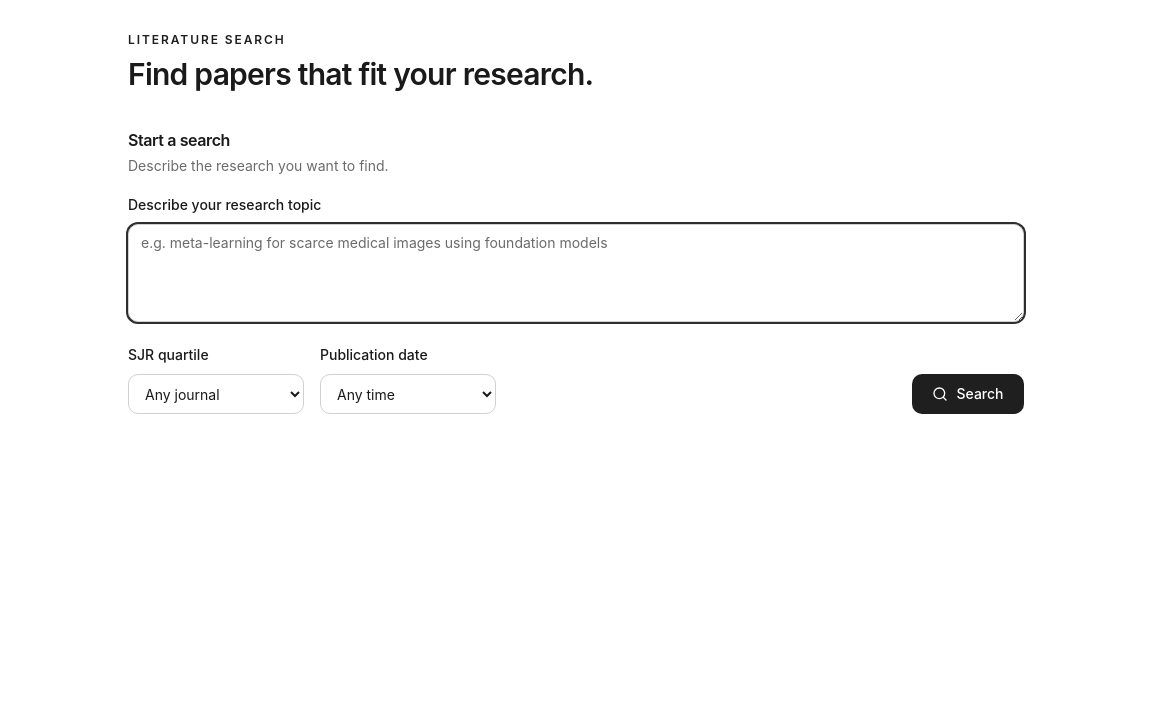
App › keeps the complete returned batch available while virtualizing the DOM
In the text box labelled "Describe your research topic": (576, 273) [128,224,1024,322], type "climate adaptation strategies for resilient cities under increasingly severe weather events"
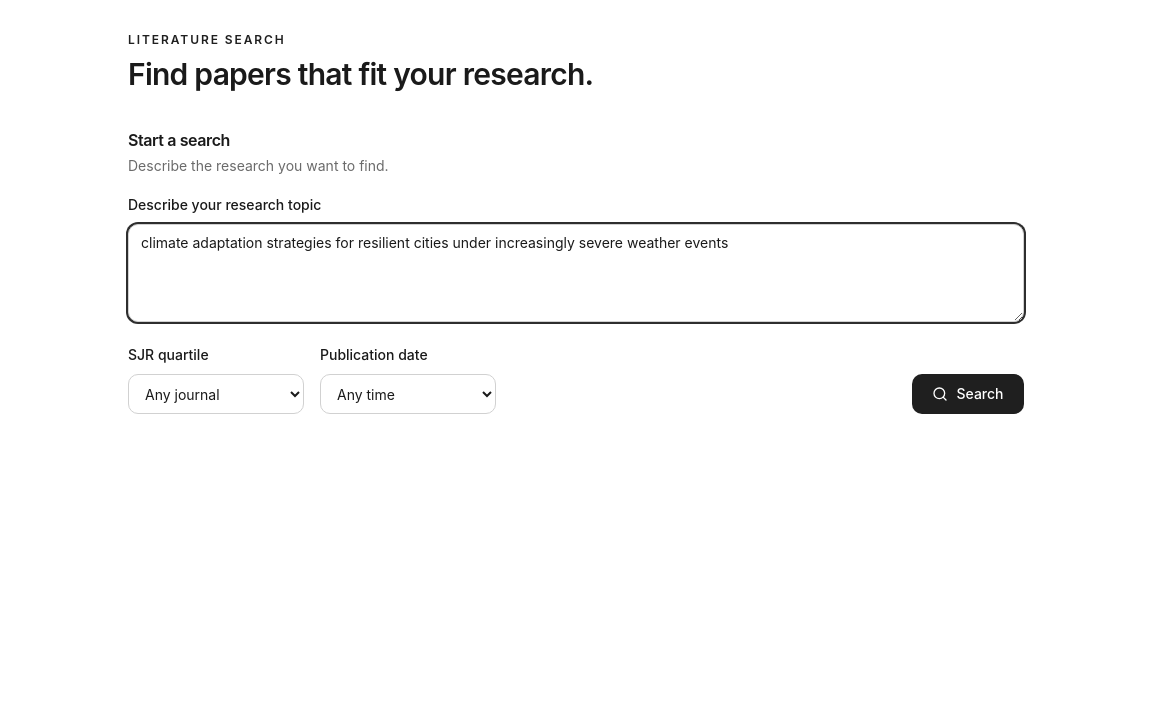
Click the button "Search": (968, 394) [912,374,1024,414]
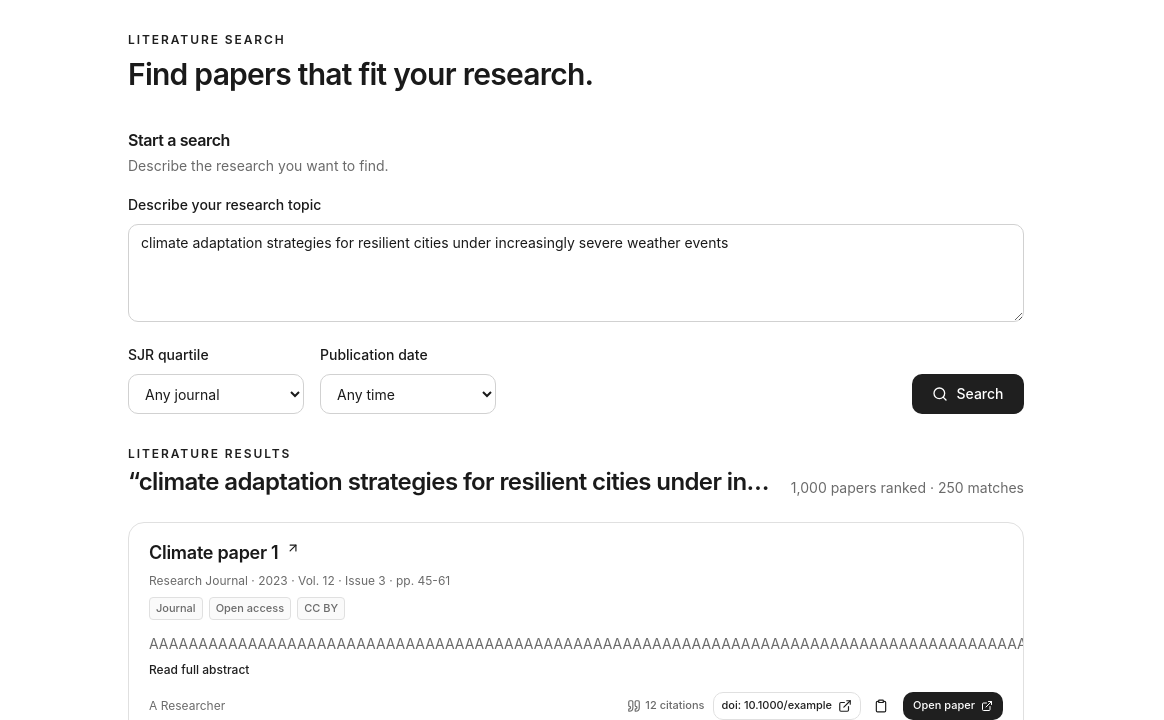
Check: the dropdown labelled "Publication date" is shown, box [320,374,496,414]
Check: the heading "Climate paper 1" is shown, box [149,541,300,563]
Check: the text "1,000 papers ranked · 250 matches" is shown, box [791,478,1024,498]
